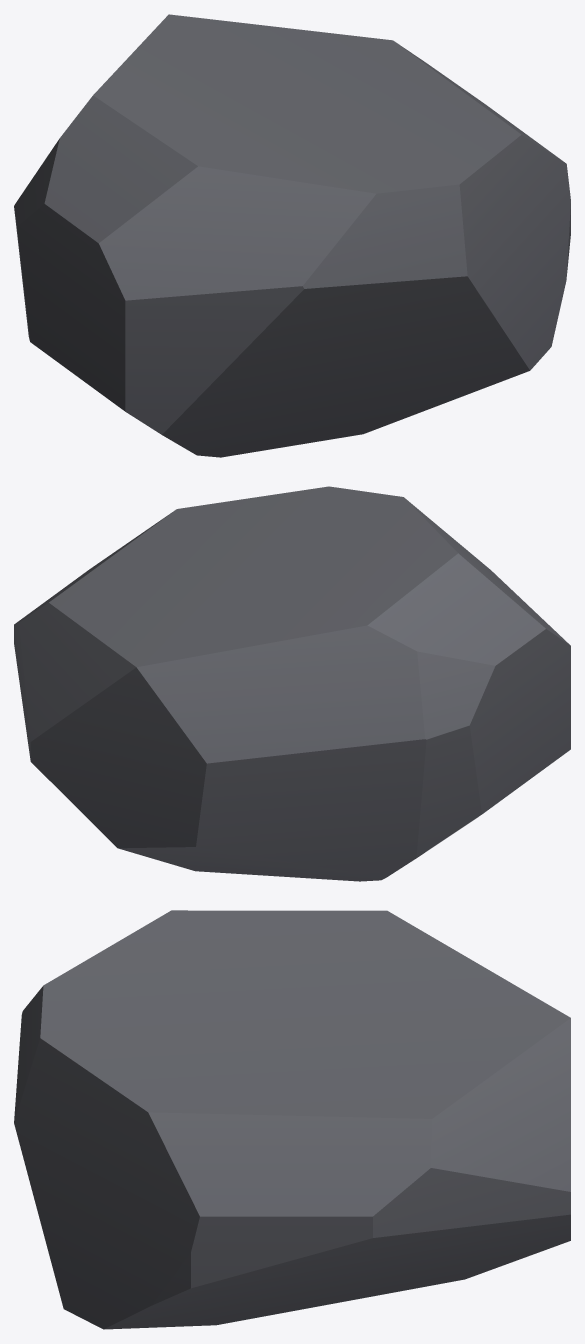
File: SmallRock_01.fbx
3 views of the same model, one above another, from view 1: azimuth 30°, elevation 25°; view 2: azimuth 150°, elevation 25°; view 3: azimuth 270°, elevation 25° (orthographic). The views are drawn at different scales.
Visible parts, largest first — view 1: SmallRock_01_LOD0; view 2: SmallRock_01_LOD0; view 3: SmallRock_01_LOD0.
Boxes of the visible parts, <box> form: SmallRock_01_LOD0: <box>14,14,570,457</box>; SmallRock_01_LOD0: <box>14,486,570,881</box>; SmallRock_01_LOD0: <box>14,910,570,1329</box>.
Size of what is drawn, in the model's own units: 0.5038 by 0.2801 by 0.4757.
